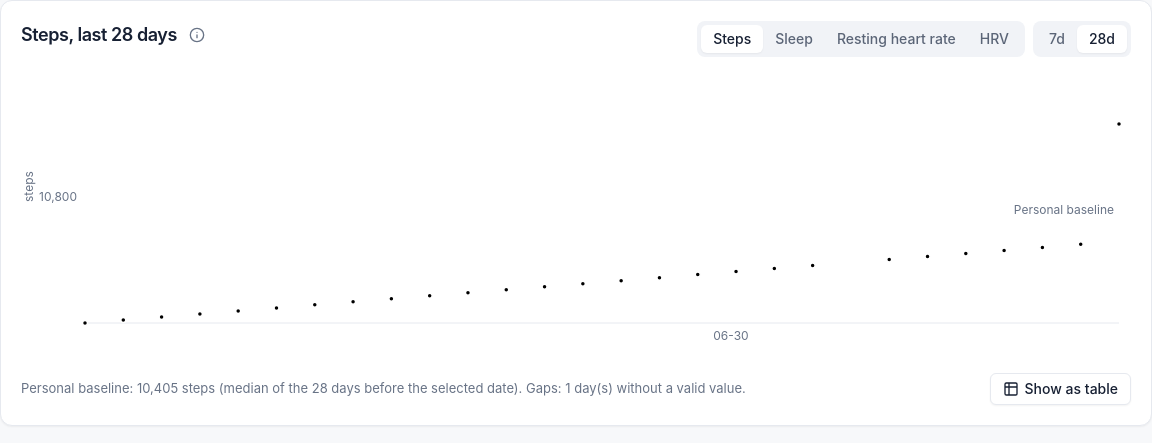
Test: TrendChart › baseline explanation is available
The image size is (1152, 443).
Hover over the button named "About personal baselines" at {"x": 197, "y": 35}, box [183,21,211,49]
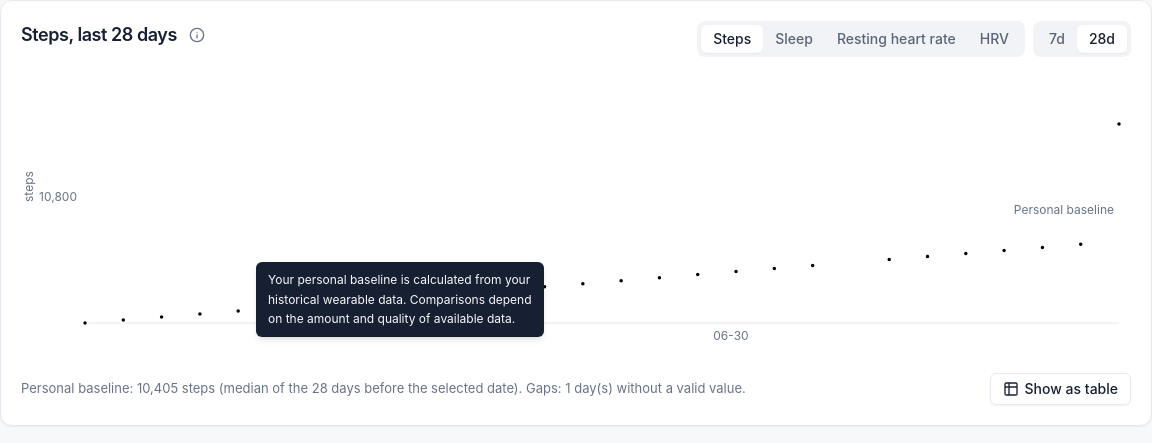
Check: the tooltip shows "Your personal baseline is calculated from your historical wearable data. Comparisons depend on the amount and quality of available data.", box [268,272,532,326]
